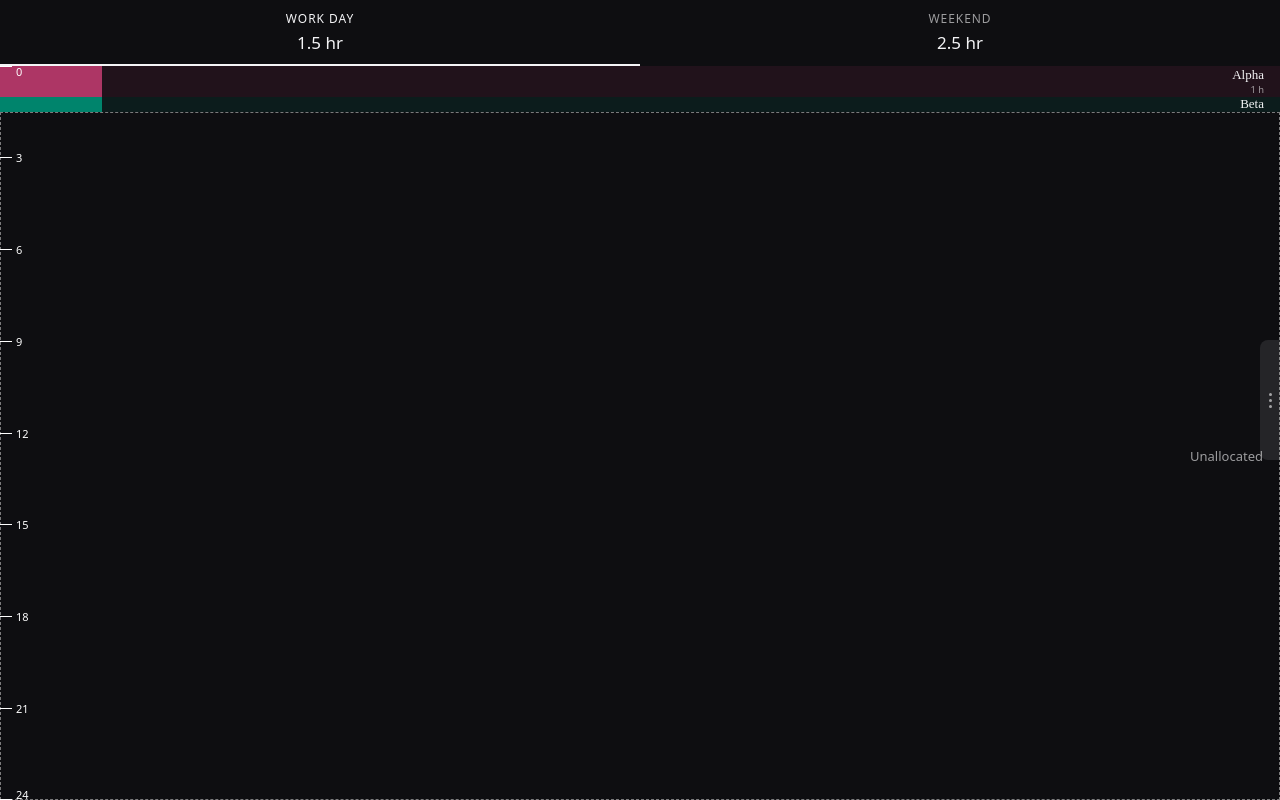
Test case: the sheet shell (§8.1, AC 24) › locks body scroll while it is up, and gives it back on close
Click the 1st button named "Alpha" at (640, 81), box [0,66,1279,97]
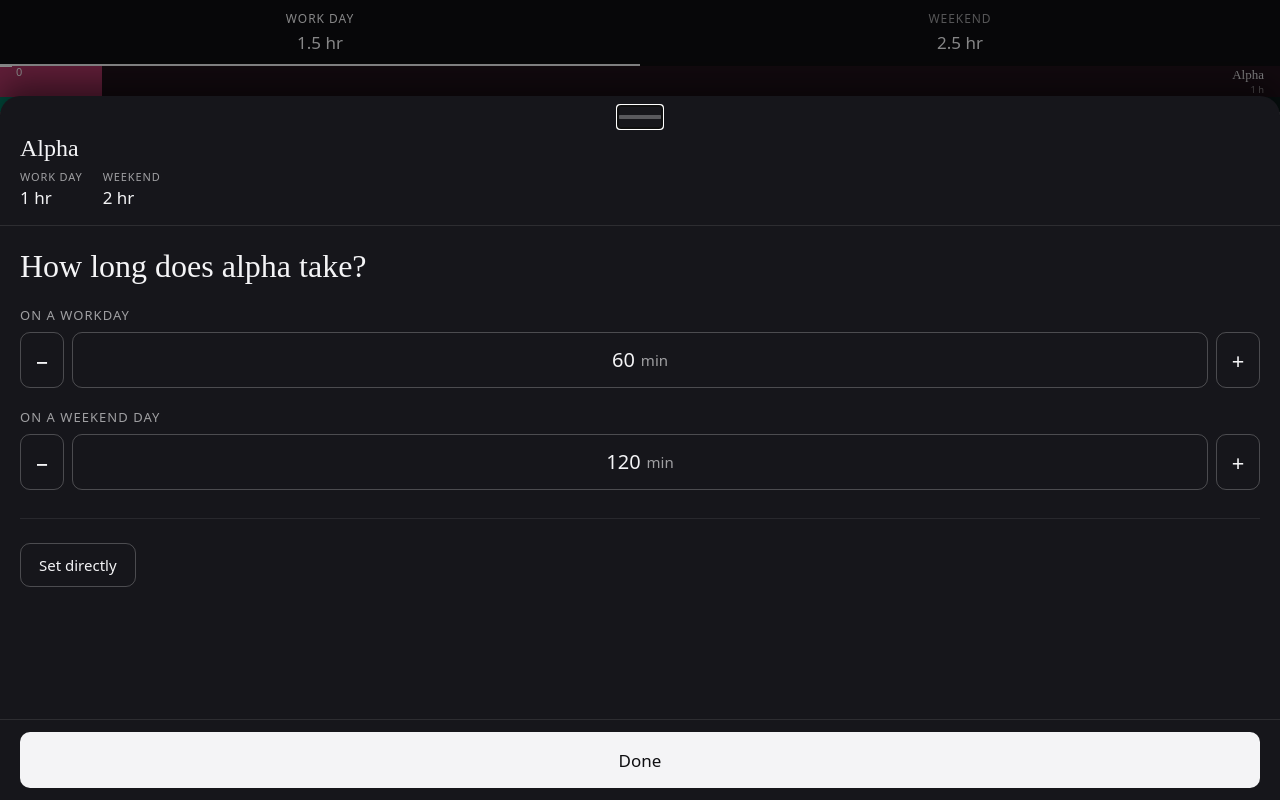
Click the button with test id "sheet-done" at (640, 760), box [20,732,1260,788]
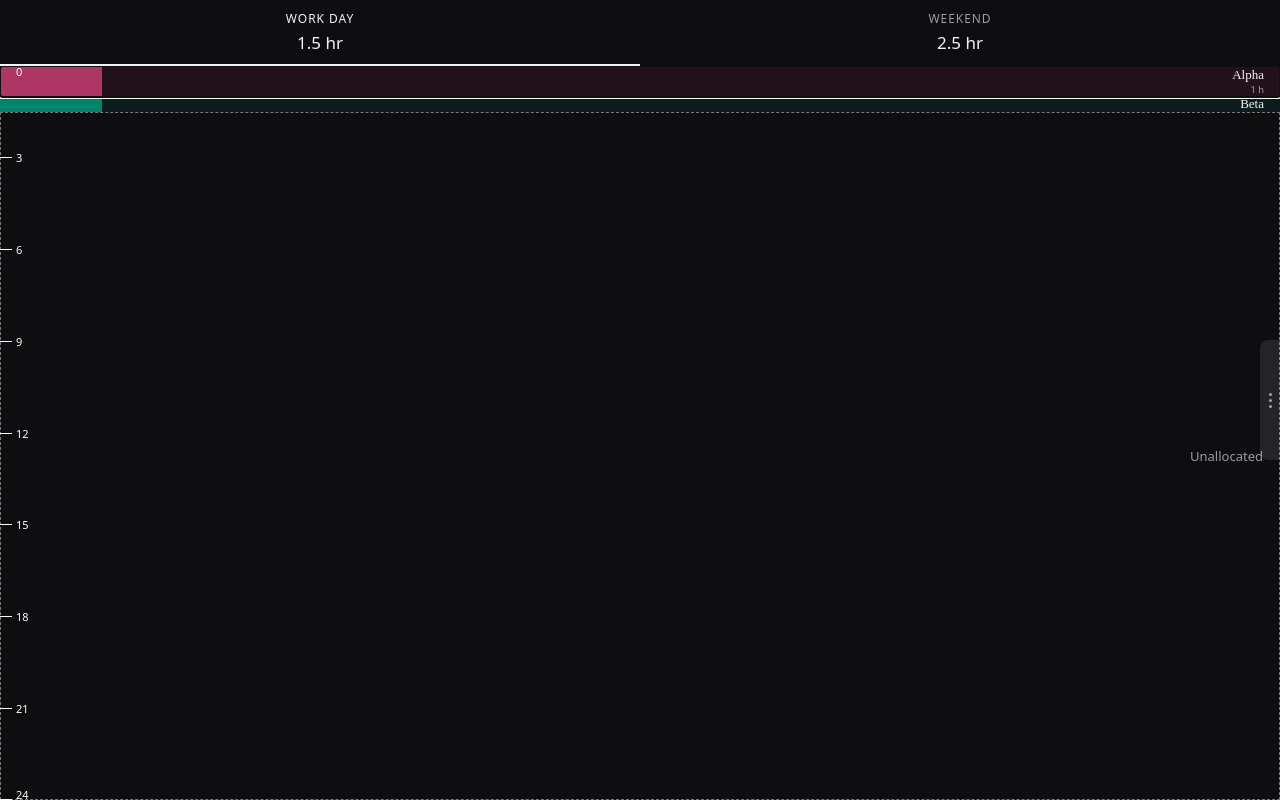
Check: the dialog with test id "sheet" is gone
